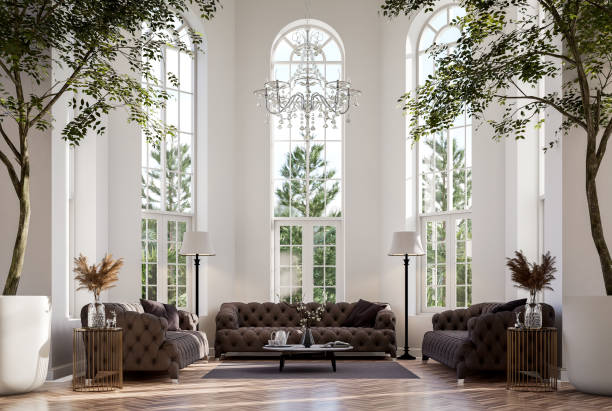floor lamp: (386, 227, 427, 363), (177, 227, 218, 333)
flower vase: (502, 248, 559, 330), (72, 249, 125, 328), (287, 291, 328, 348)
large plant: (406, 0, 612, 398), (0, 0, 177, 398)
side table: (67, 326, 126, 392), (504, 326, 560, 395)
sofa: (214, 298, 398, 361), (420, 296, 558, 379), (79, 295, 209, 382)
table: (259, 337, 356, 373)
